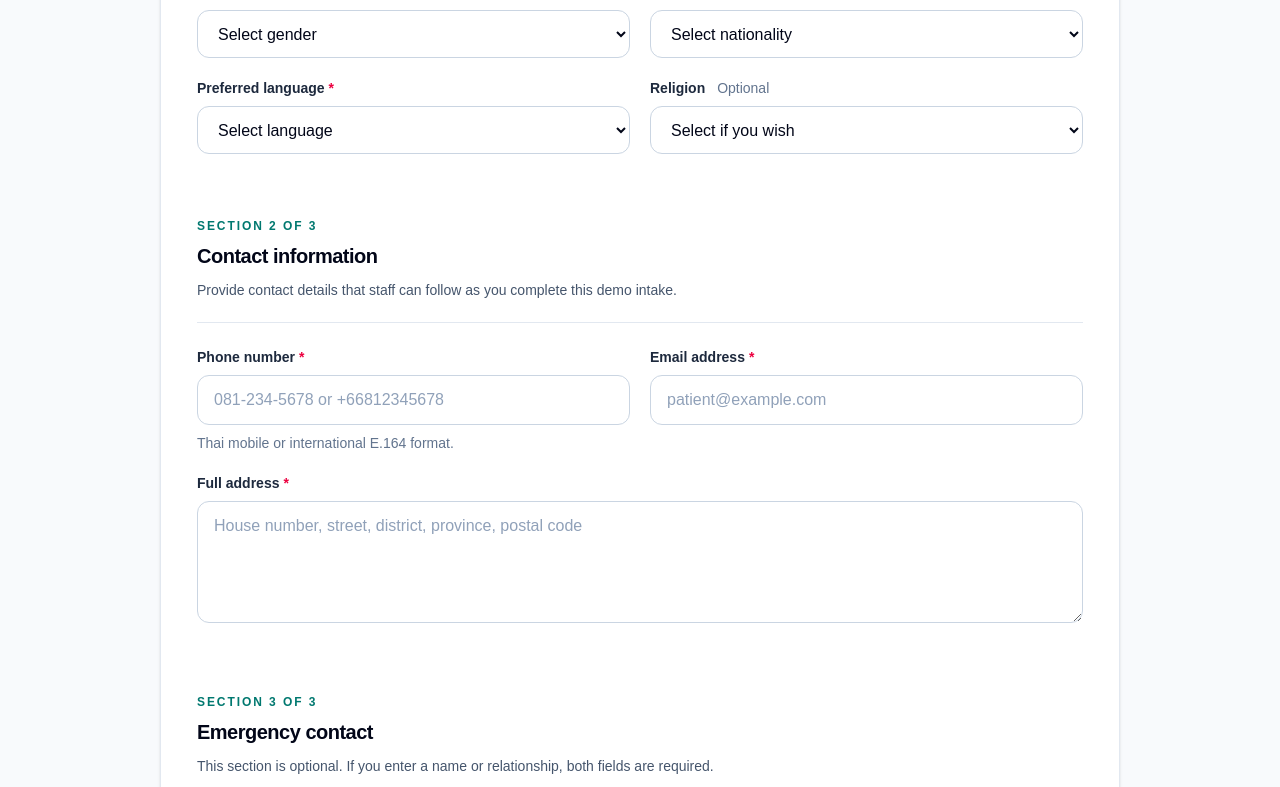
Test: PatientForm › shows inline validation feedback on blur
(page scrolled)
Step 1. Type "12345" into the field labelled "Phone number*" → (414, 400), box [197,375,630,425]
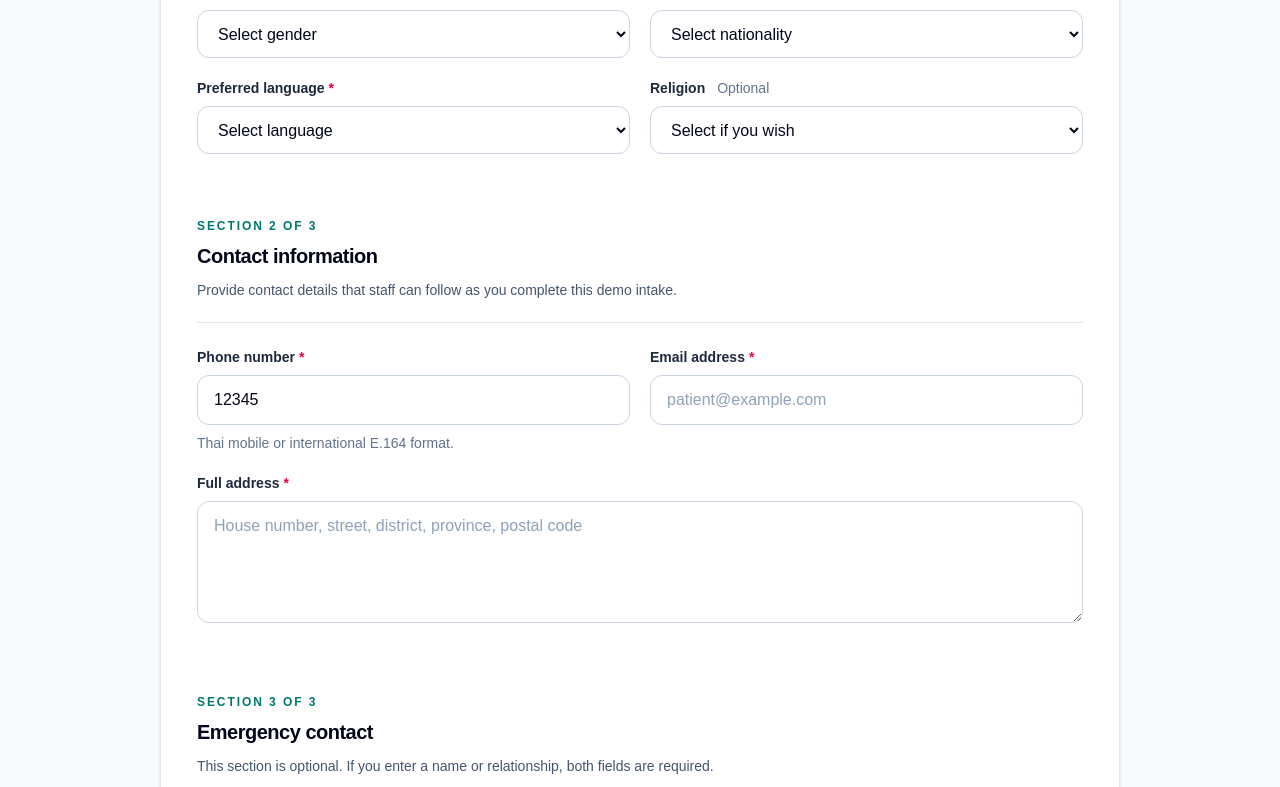
Step 2. Leave the field labelled "Phone number*", box [197,375,630,425]
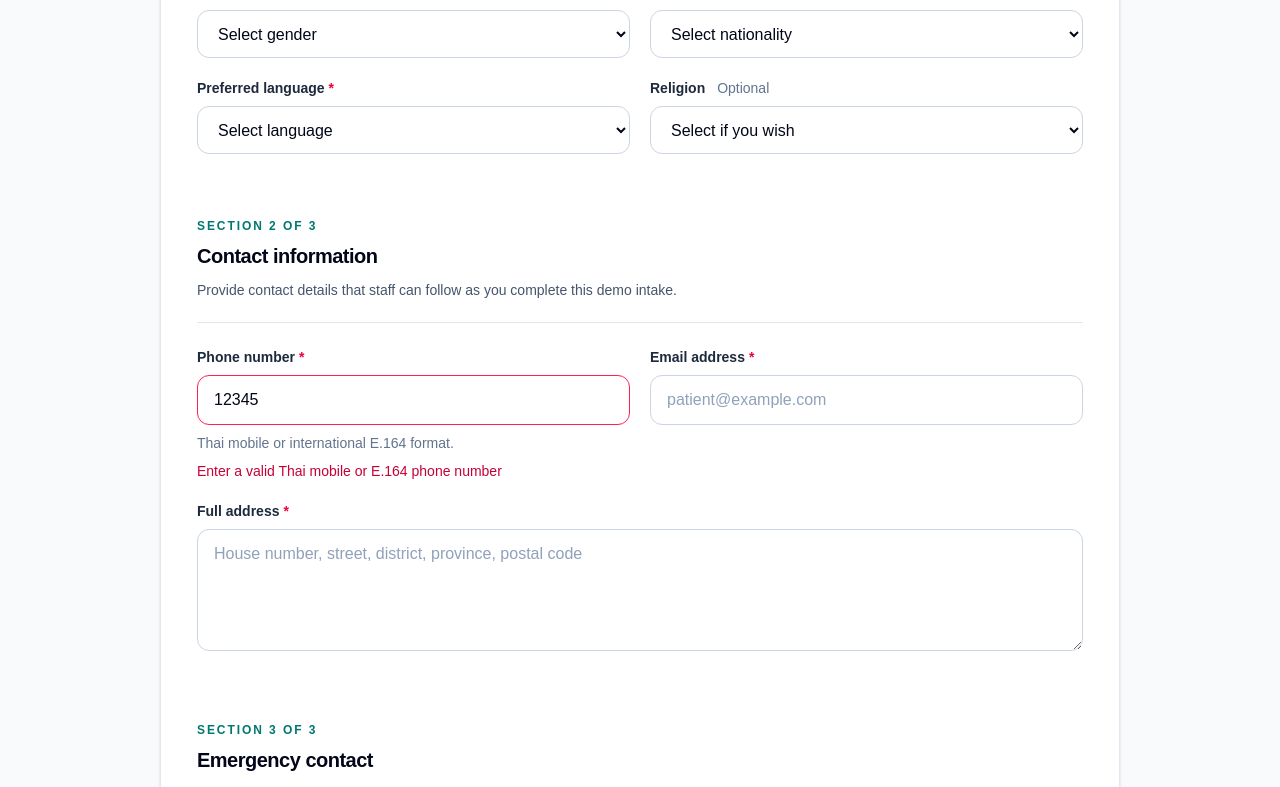
Expected: the text "Enter a valid Thai mobile or E.164 phone number" is shown, [197,463,502,479]
